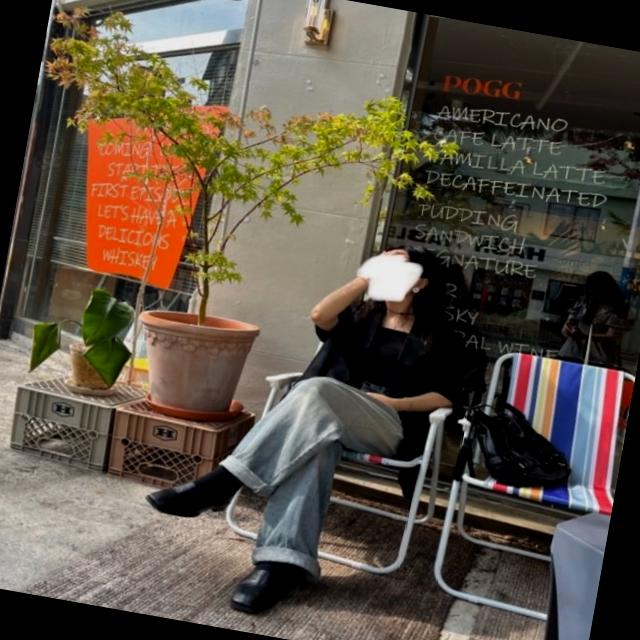blazer: (292, 290, 480, 474)
denimpants: (198, 359, 409, 592)
